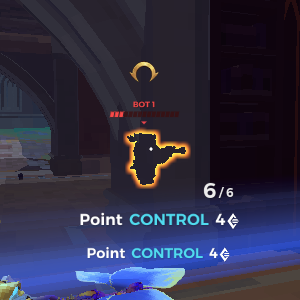model: (127, 128, 171, 194)
